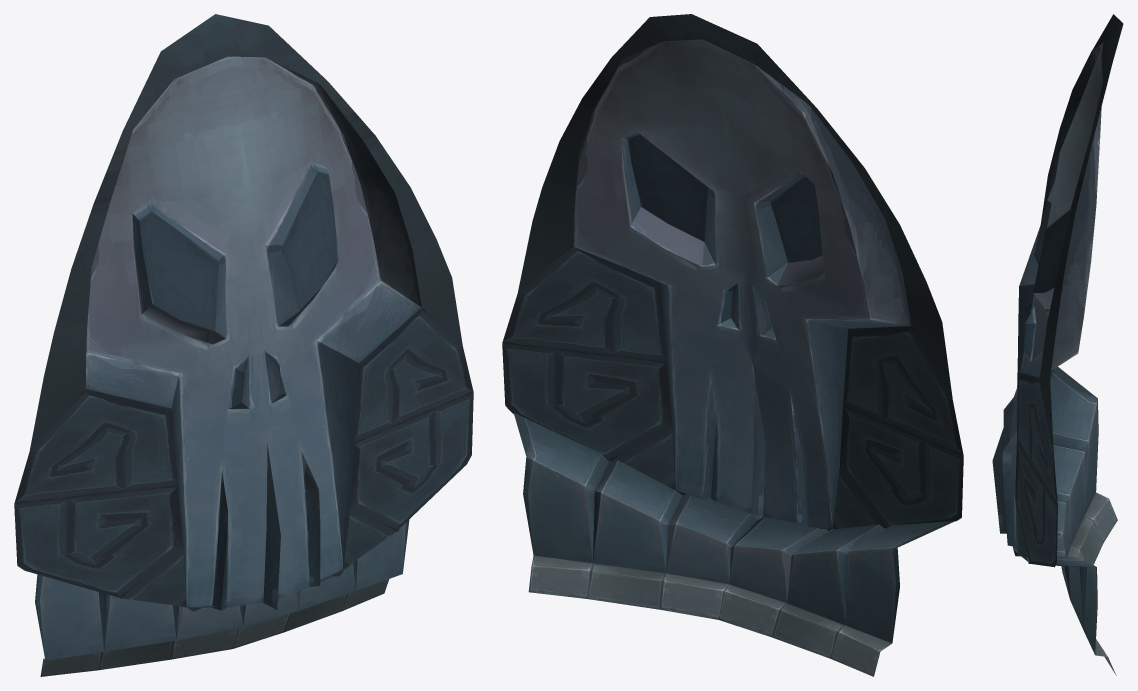
The model's file is A_CR_GEN_WallPanel_06.fbx.
The picture shows the model from 3 angles, left to right: view 1: azimuth 30°, elevation 25°; view 2: azimuth 150°, elevation 25°; view 3: azimuth 270°, elevation 25°; orthographic projection. The views are drawn at different scales.
Visible parts, largest first — view 1: A_CR_GEN_WallPanel_06; view 2: A_CR_GEN_WallPanel_06; view 3: A_CR_GEN_WallPanel_06.
Part boxes in pixels (x1,y1,x2,y2): A_CR_GEN_WallPanel_06: (14,14,473,676); A_CR_GEN_WallPanel_06: (502,14,963,676); A_CR_GEN_WallPanel_06: (992,14,1123,675).
Size of the model in its own units: 522 by 671 by 138.
1 material, 1 textured.
